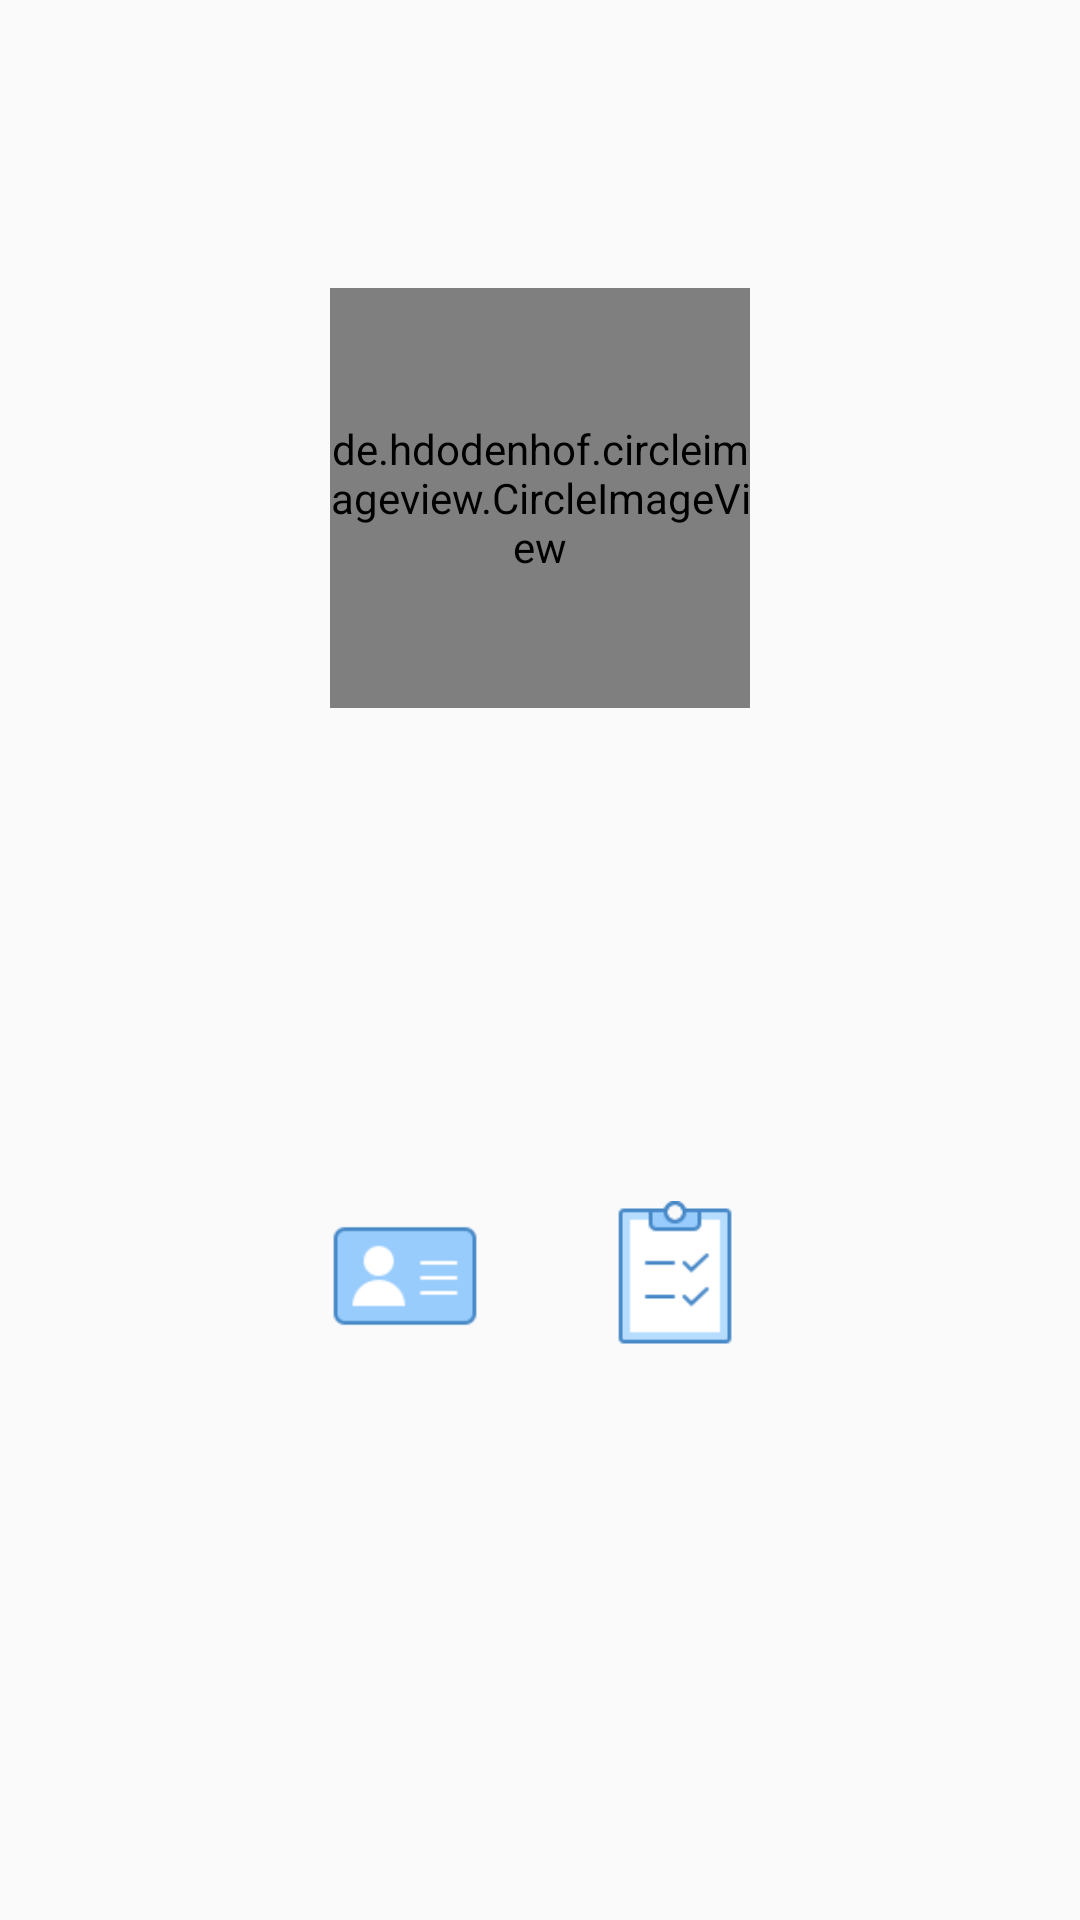

Named icons in this screenshot (1080 x 1920) and their centers, point (x, y):
identity: point (405, 1276)
reslult: point (675, 1272)
